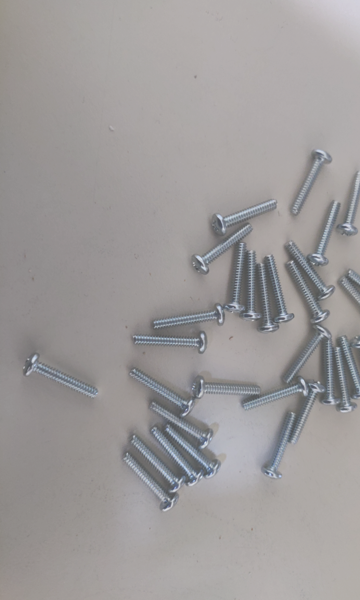longscrew: (23, 356, 103, 404), (126, 367, 198, 415), (190, 225, 256, 277), (153, 400, 215, 453), (160, 424, 222, 477), (149, 428, 207, 484), (129, 435, 187, 491), (122, 455, 180, 511), (284, 243, 336, 305), (261, 409, 301, 484), (291, 144, 332, 217), (282, 325, 328, 390), (286, 261, 330, 328), (209, 195, 277, 235), (309, 202, 347, 269), (145, 300, 227, 328), (128, 330, 211, 357), (292, 384, 327, 445), (266, 254, 295, 326), (243, 378, 306, 411), (224, 241, 250, 319), (234, 248, 260, 326), (253, 261, 279, 338), (336, 170, 360, 238), (189, 381, 263, 403), (334, 352, 360, 414), (340, 338, 360, 400), (322, 336, 337, 414), (343, 282, 360, 332), (352, 270, 360, 320), (354, 338, 360, 401)
